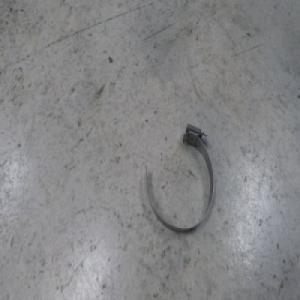AdjustableClamp: (142, 123, 213, 231)
